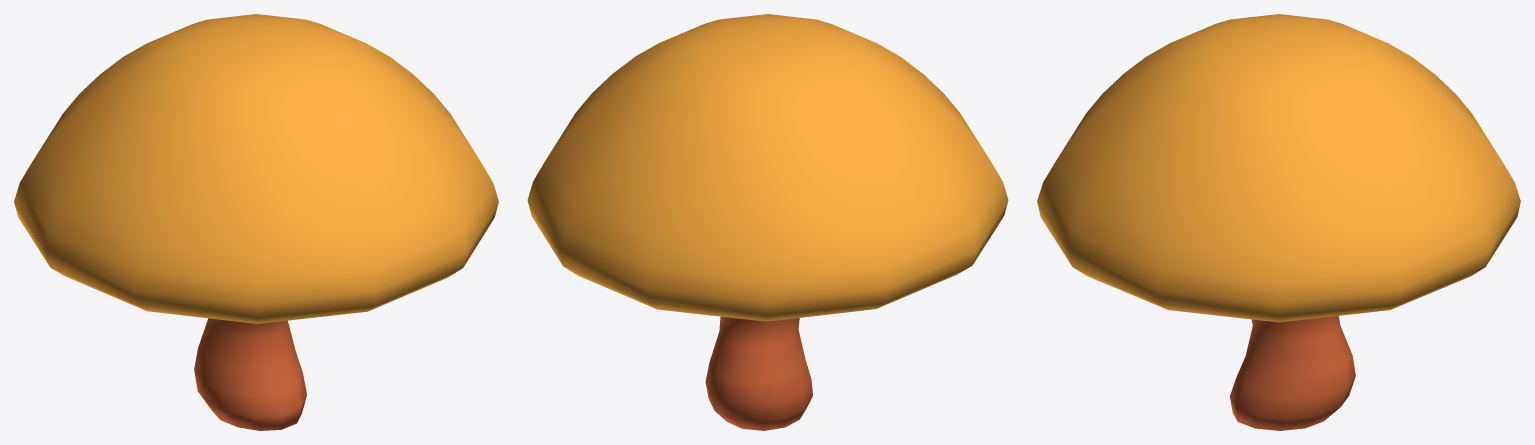
File: seta fruto globo fbx.FBX
3 views of the same model, side by side, from view 1: azimuth 30°, elevation 25°; view 2: azimuth 150°, elevation 25°; view 3: azimuth 270°, elevation 25° (orthographic).
Visible parts, largest first — view 1: Sphere001; view 2: Sphere001; view 3: Sphere001.
Boxes of the visible parts, x1,y1,x2,y2 form: Sphere001: (14, 14, 498, 430); Sphere001: (527, 14, 1008, 430); Sphere001: (1037, 14, 1520, 430).
Bounding box in the file's own units: 15.84 × 13.45 × 15.85.
